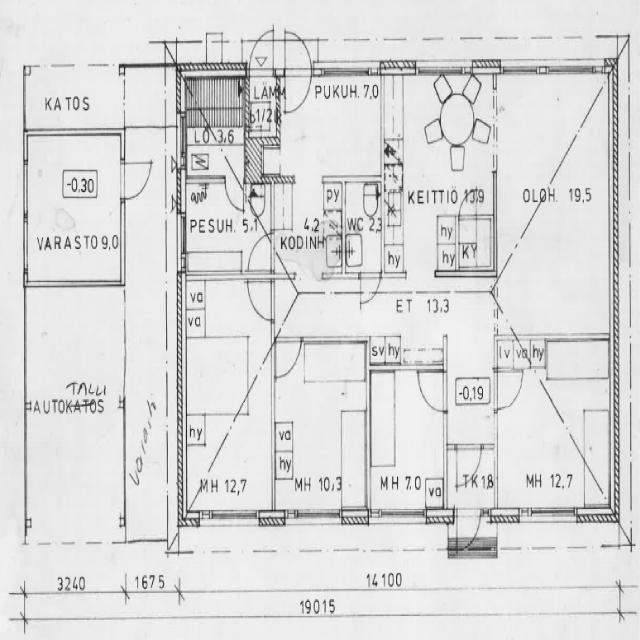door: (457, 508, 480, 562), (250, 26, 274, 77), (417, 372, 447, 412), (285, 26, 308, 77), (493, 372, 523, 411), (285, 63, 308, 113), (276, 336, 302, 380), (246, 281, 274, 320), (246, 232, 274, 270), (457, 444, 481, 486), (121, 163, 148, 198), (360, 272, 380, 308), (225, 176, 244, 211), (459, 187, 477, 220)
